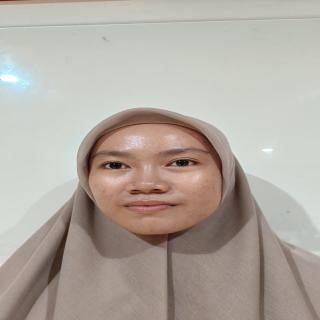Netral: (85, 123, 235, 240)
